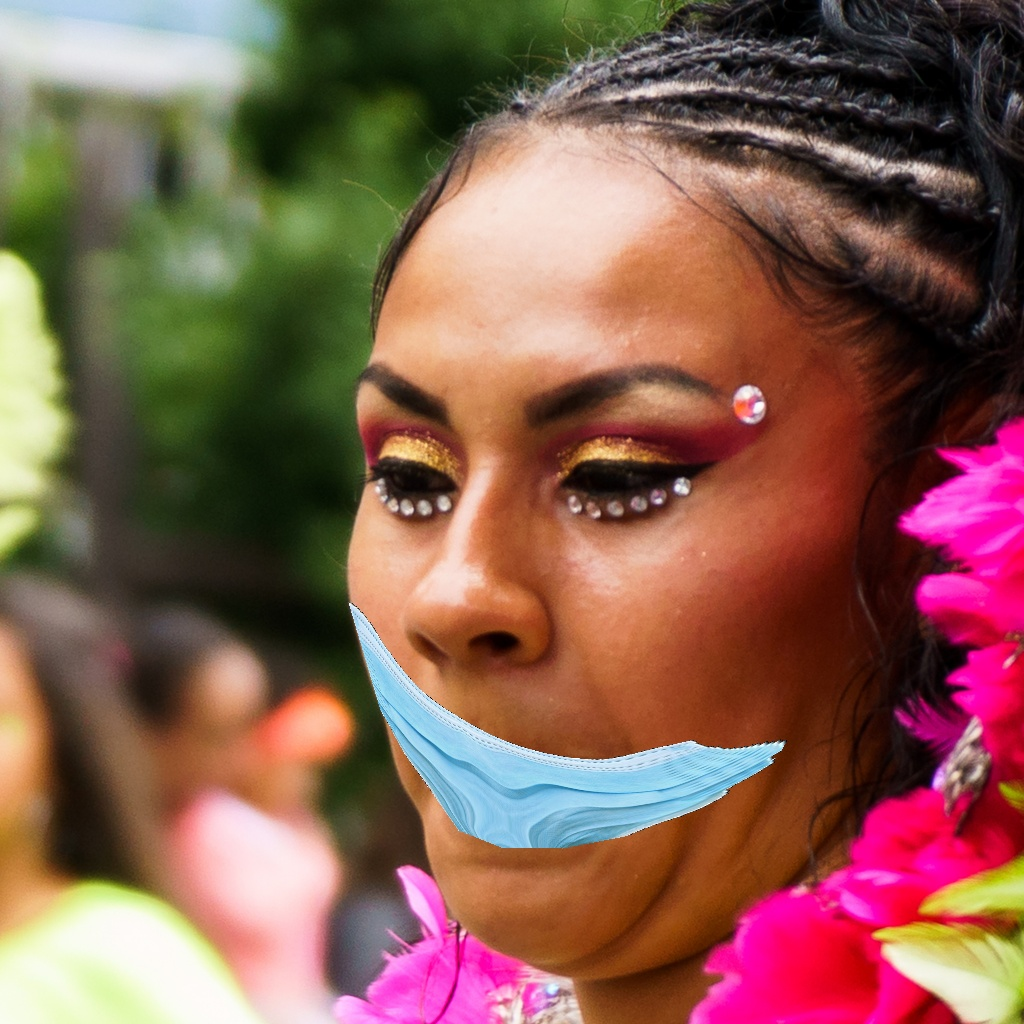mascarilla_mal_puesta: (332, 333, 857, 973)
